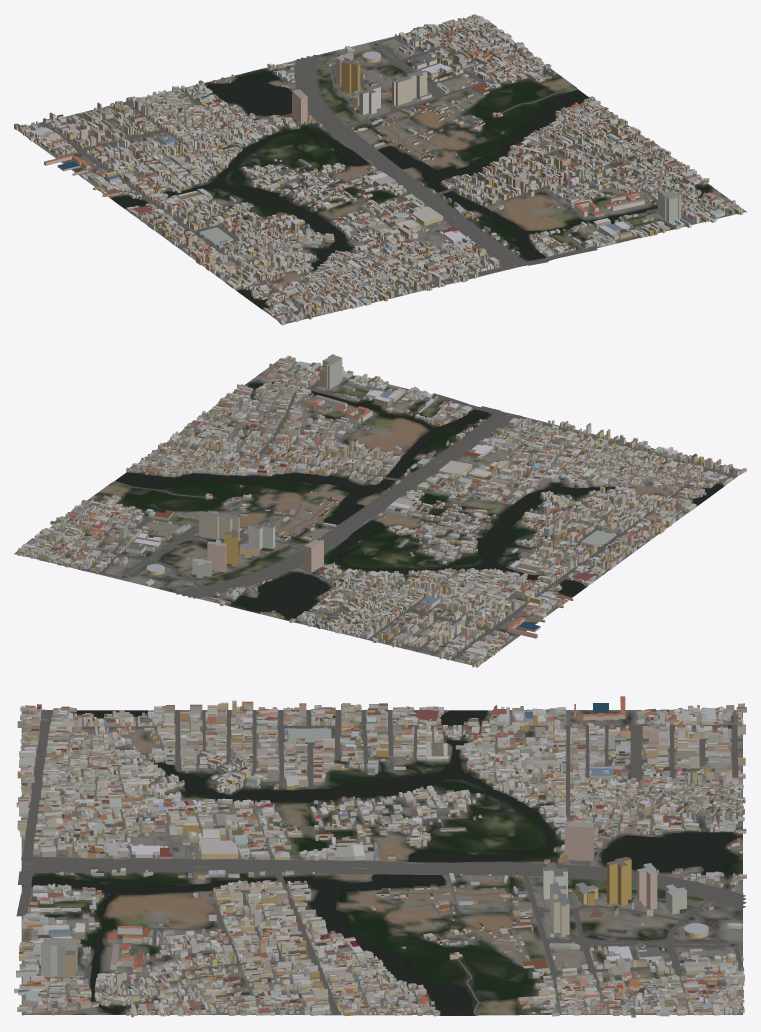
3 renders of one model, top to bottom at view 1: azimuth 30°, elevation 25°; view 2: azimuth 150°, elevation 25°; view 3: azimuth 270°, elevation 25°, orthographic. The views are drawn at different scales.
Visible parts, largest first — view 1: buildings, ground, roads, water; view 2: buildings, ground, roads, water; view 3: buildings, ground, roads, water.
Part boxes in pixels (x1=…): buildings: x1=14, y1=14, x2=743, y2=325; ground: x1=17, y1=20, x2=746, y2=323; roads: x1=18, y1=24, x2=746, y2=322; water: x1=111, y1=72, x2=707, y2=309; buildings: x1=17, y1=354, x2=746, y2=667; ground: x1=14, y1=358, x2=734, y2=666; roads: x1=15, y1=363, x2=737, y2=664; water: x1=115, y1=382, x2=723, y2=618; buildings: x1=14, y1=696, x2=746, y2=1017; ground: x1=21, y1=710, x2=742, y2=1015; roads: x1=16, y1=709, x2=746, y2=1015; water: x1=22, y1=710, x2=735, y2=1015.
Bounding box in the file's own units: 1456 × 90.69 × 1423.
